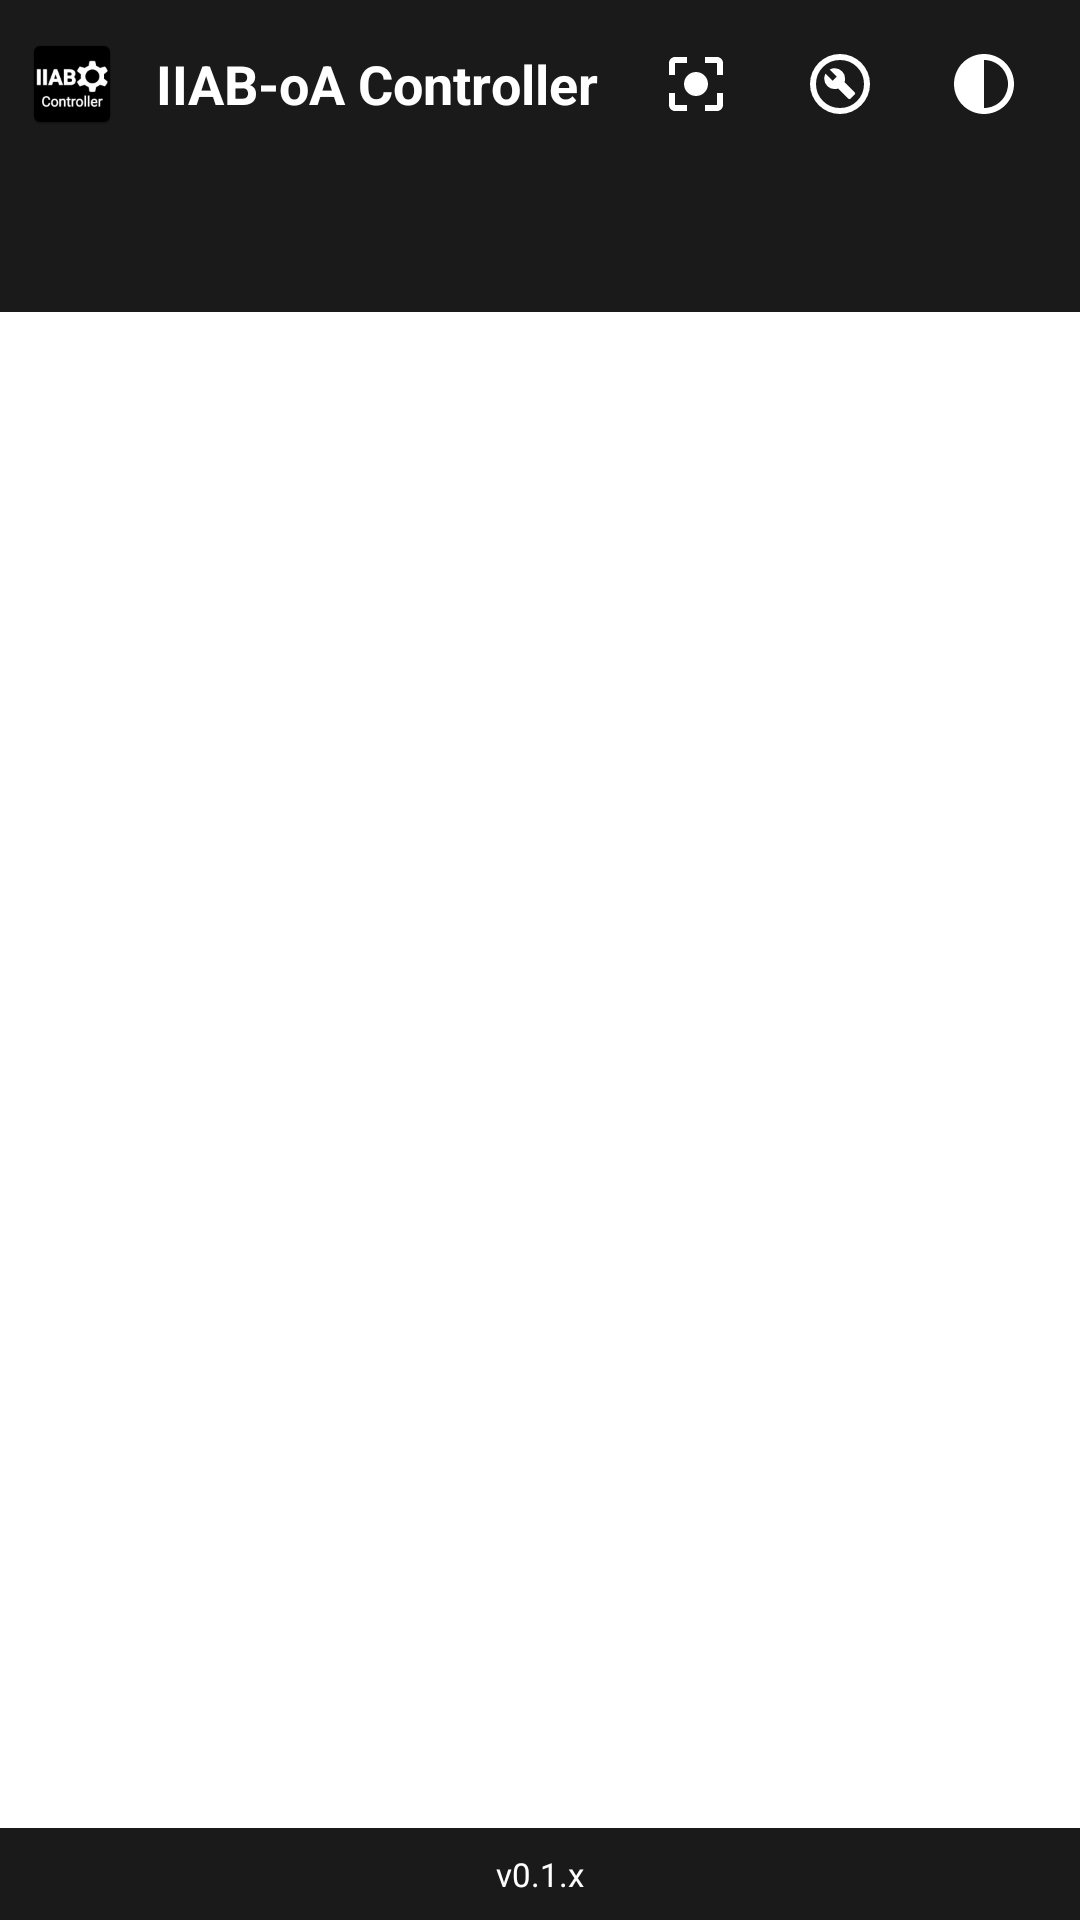

Screen size 1080 × 1920. Icon name, then its box in pixels as (x1, y1, x2, y2):
Settings: (810, 54, 870, 114)
Toggle Theme: (954, 54, 1014, 114)
